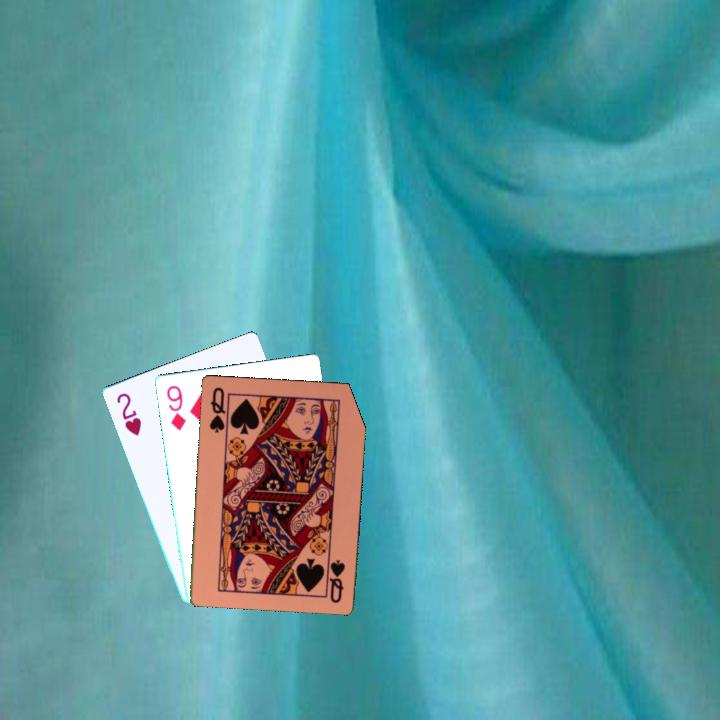2h: (113, 389, 144, 439)
9d: (163, 381, 188, 433)
Qs: (206, 383, 231, 438), (326, 556, 348, 606)
